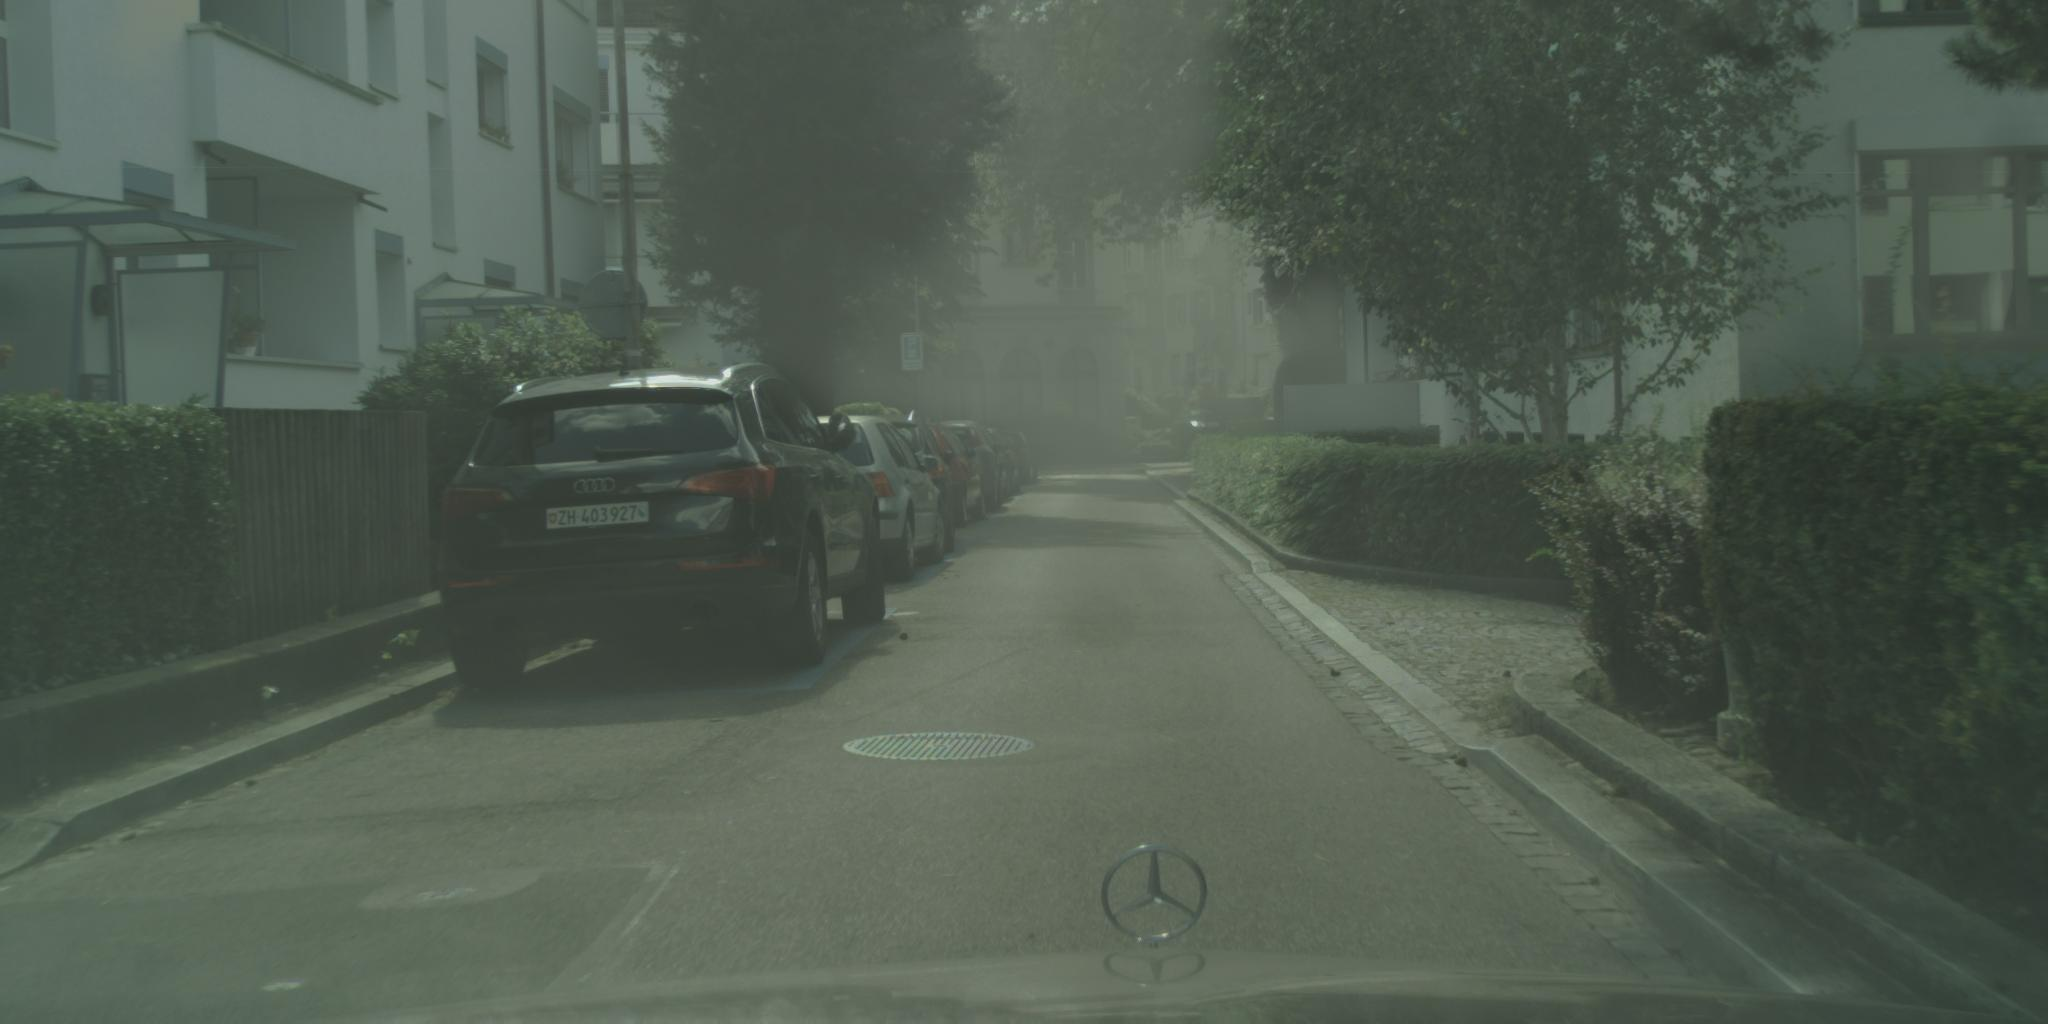car: (438, 358, 889, 691), (820, 417, 950, 581), (889, 427, 960, 554), (917, 423, 989, 532), (934, 421, 1004, 515), (1173, 409, 1228, 434)
